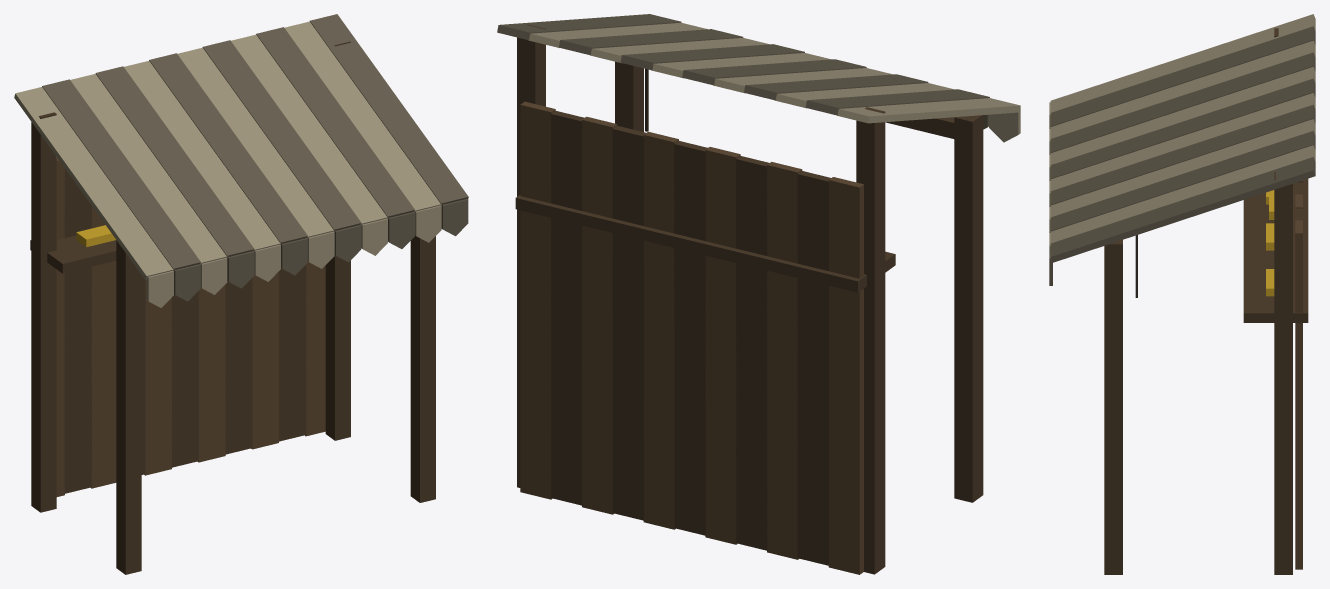
The model's file is MarketGoldsmithStall.fbx.
3 renders of one model, left to right at view 1: azimuth 30°, elevation 25°; view 2: azimuth 150°, elevation 25°; view 3: azimuth 270°, elevation 25°, orthographic. The views are drawn at different scales.
Parts seen in each view (by area): view 1: MarketGoldsmithStall; view 2: MarketGoldsmithStall; view 3: MarketGoldsmithStall.
Boxes of the visible parts, x1,y1,x2,y2 form: MarketGoldsmithStall: [14, 14, 468, 574]; MarketGoldsmithStall: [497, 14, 1020, 574]; MarketGoldsmithStall: [1049, 14, 1315, 574].
Size of the model in its own units: 241 by 291 by 172.
Materials: 6 (6 with a texture image).
